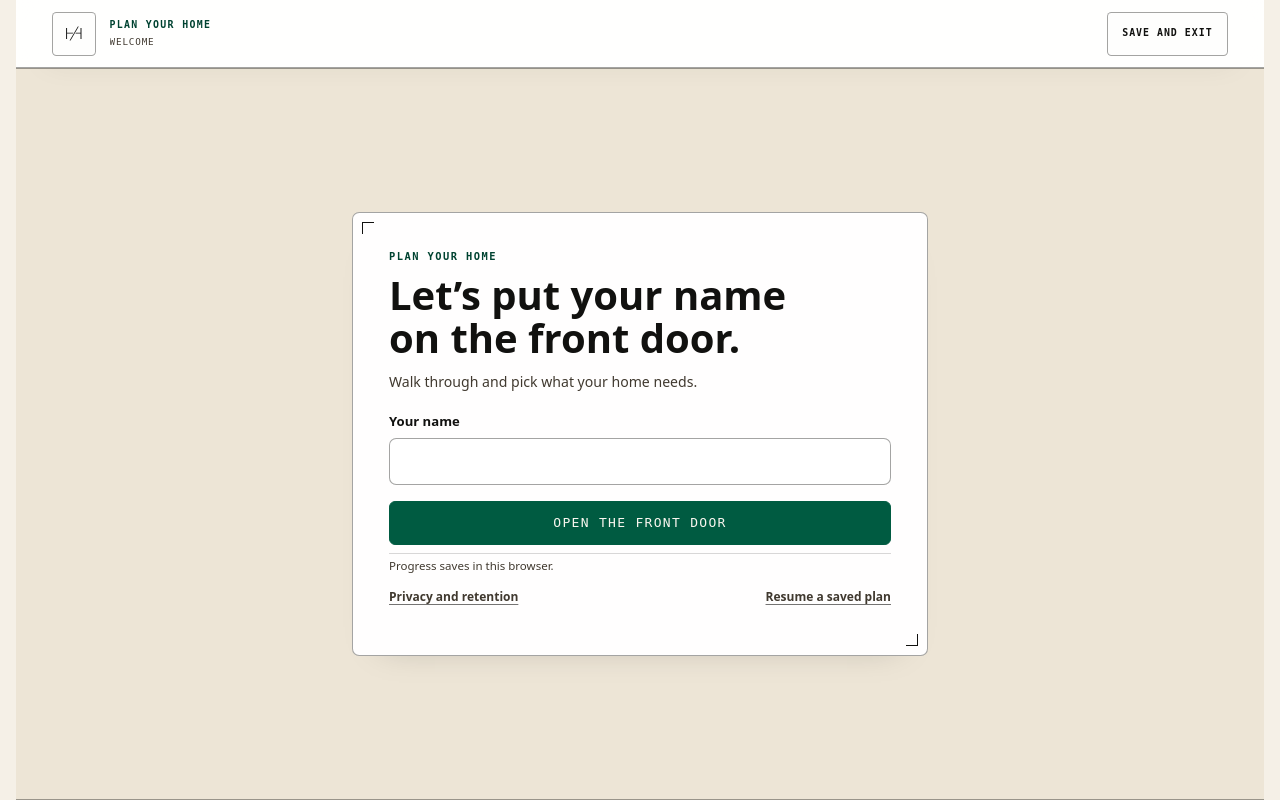
Test case: question chrome keeps visual progress compact and exposes the count accessibly
This screenshot has width=1280, height=800.
Type "Taylor" into the field labelled "Your name" at point(640, 461), box left=389, top=438, right=891, bottom=485
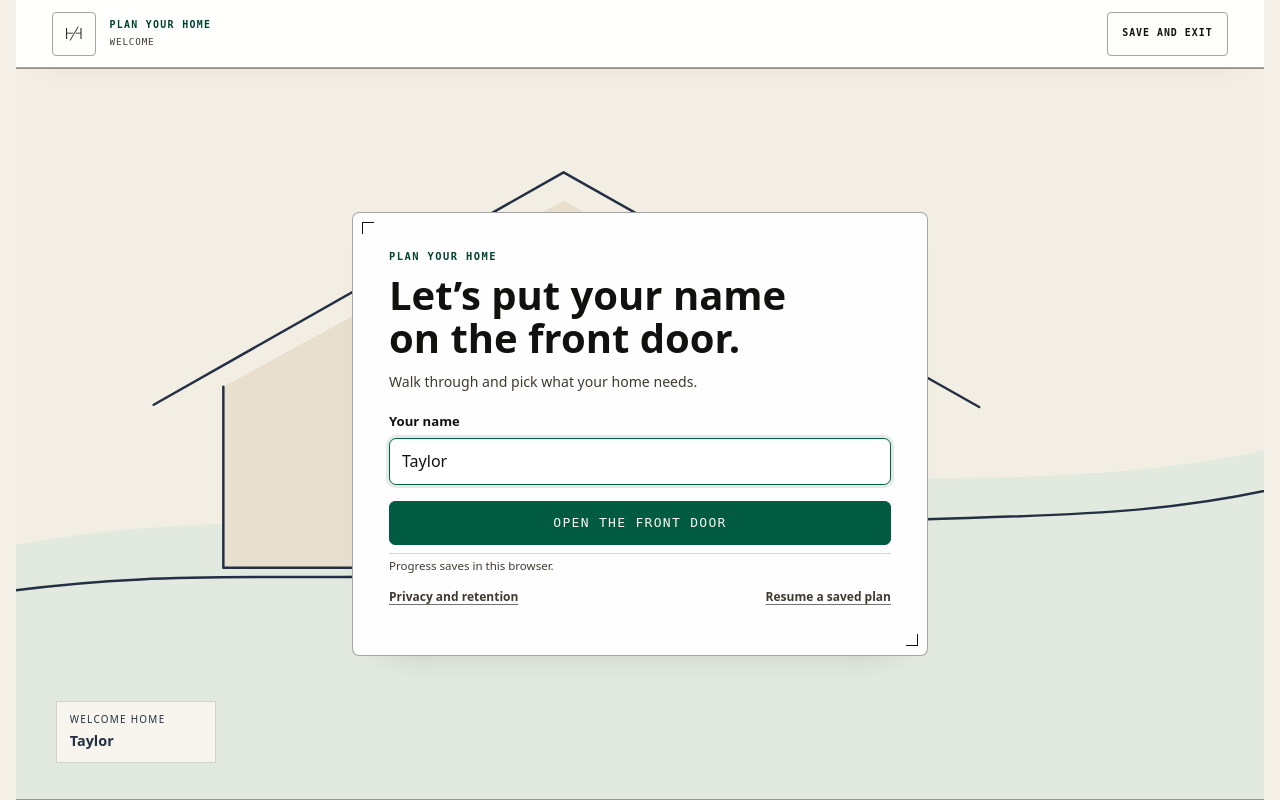
Click the button "Open the front door" at point(640, 523), box left=389, top=501, right=891, bottom=545
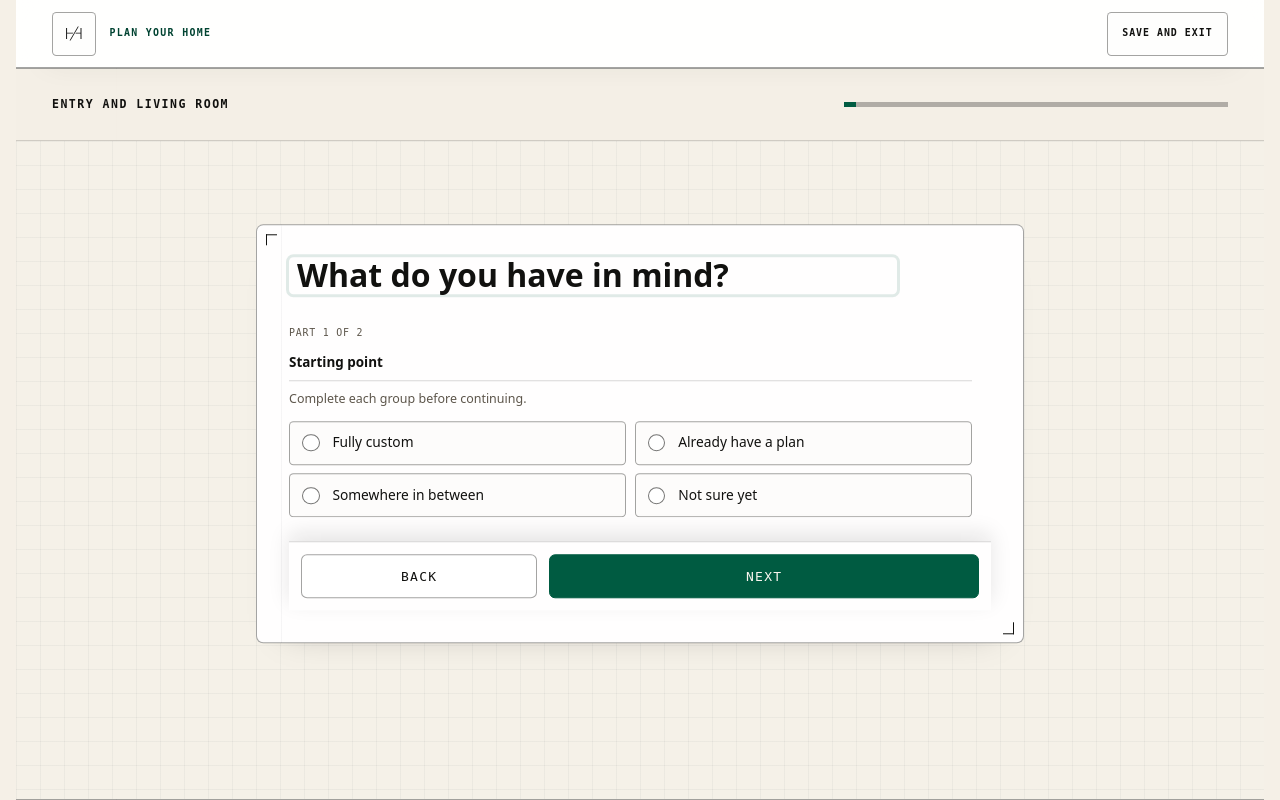
Expected: the heading "What do you have in mind?" is shown, left=289, top=257, right=897, bottom=294
Expected: the element that starts with "Entry and Living Room" is shown
Expected: the progress indicator named "Question 1 of 32" is shown, left=844, top=102, right=1228, bottom=107
